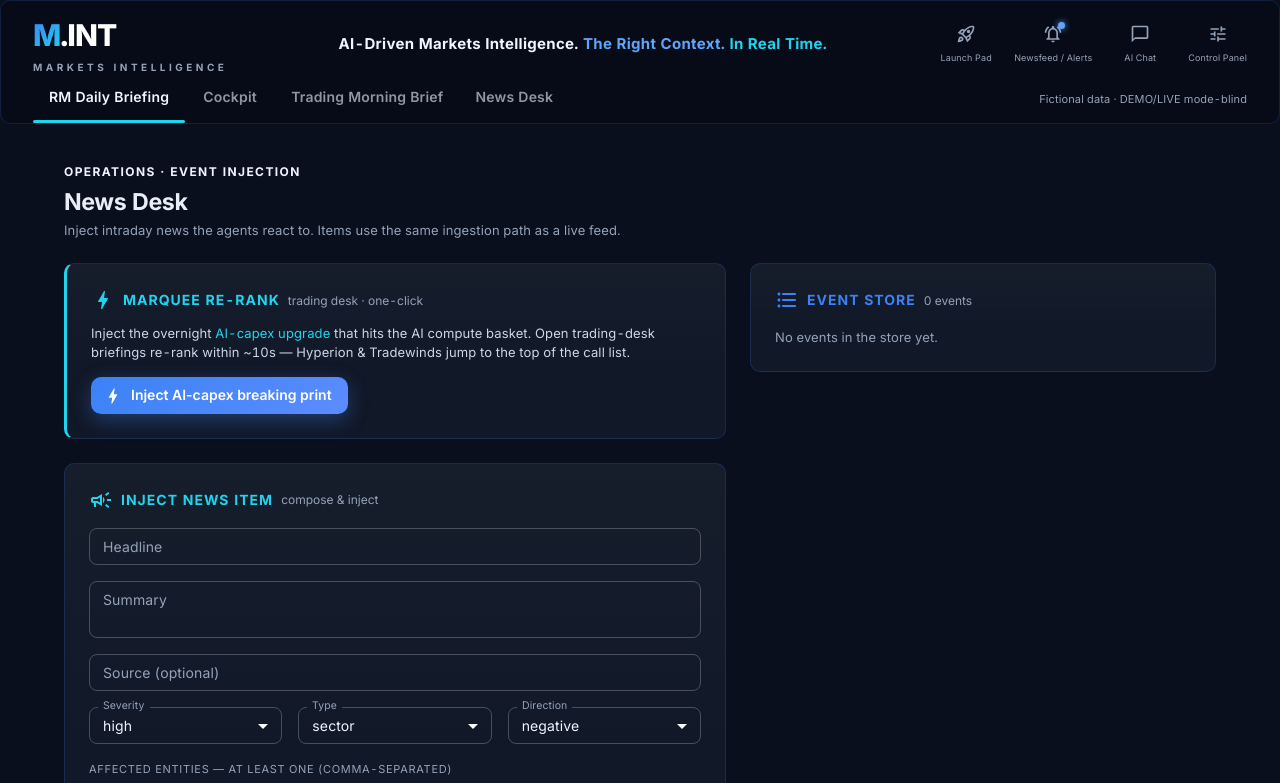
Test: AdminScene › ingests a valid submission exactly once and refreshes the feed
Type "Grain prices spike" into the field labelled "Headline" at (395, 546), box 89,528 -> 701,565
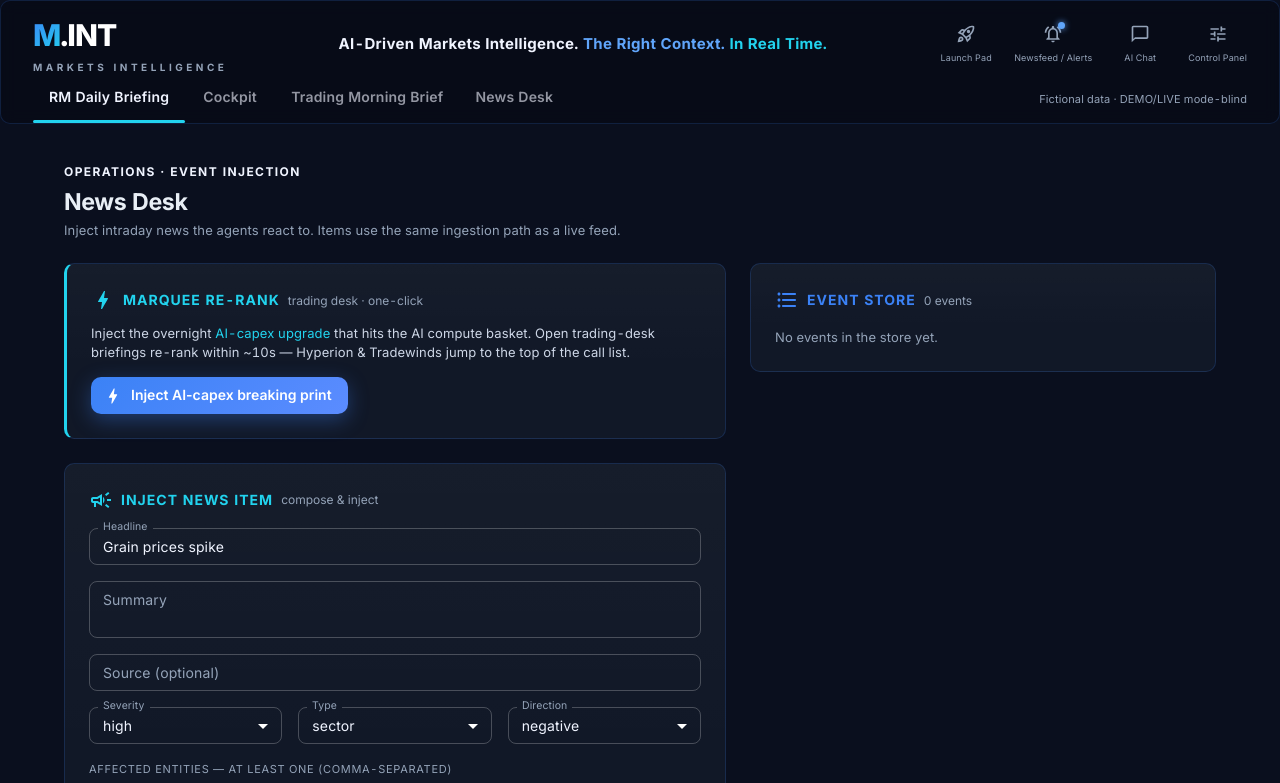
Type "Drought lifts agricultural commodity prices." into the text box labelled "Summary" at (395, 609), box 103,589 -> 687,629
(page scrolled)
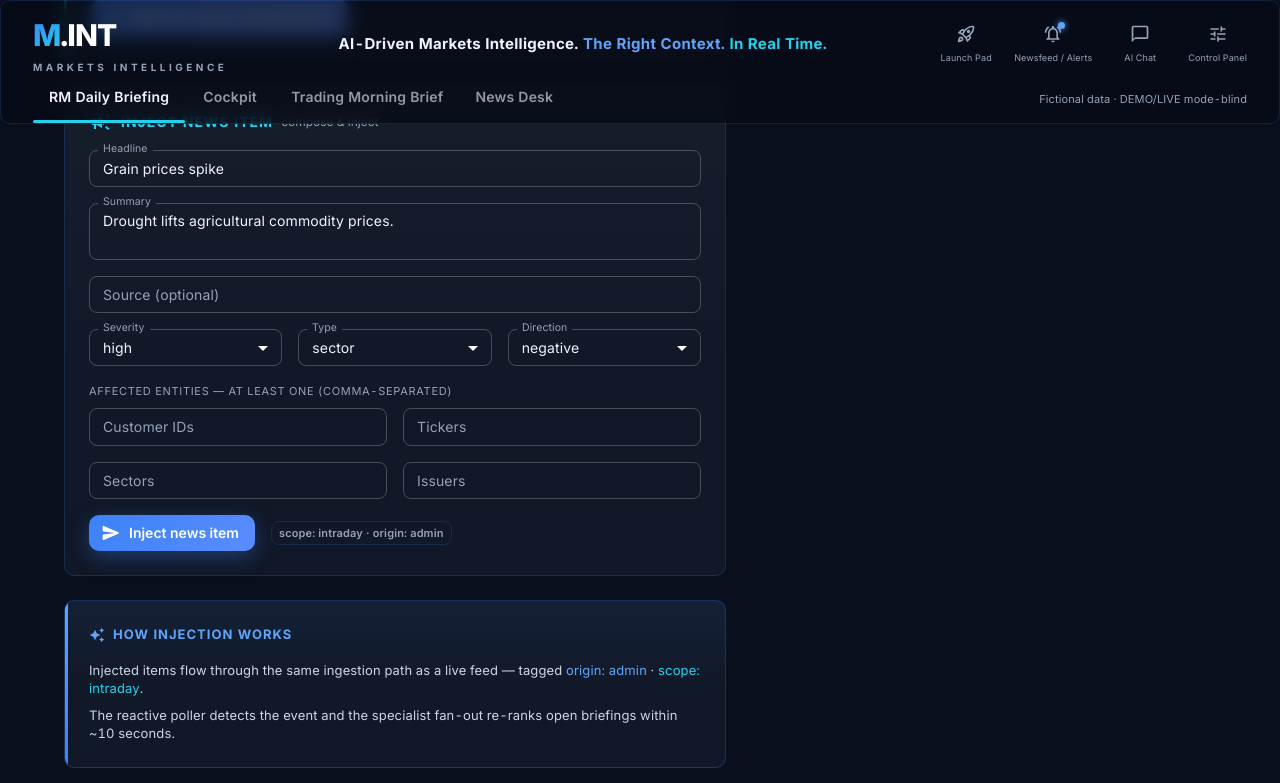
Type "CB-10036" into the dropdown labelled "Customer IDs" at (236, 427), box 95,414 -> 378,440
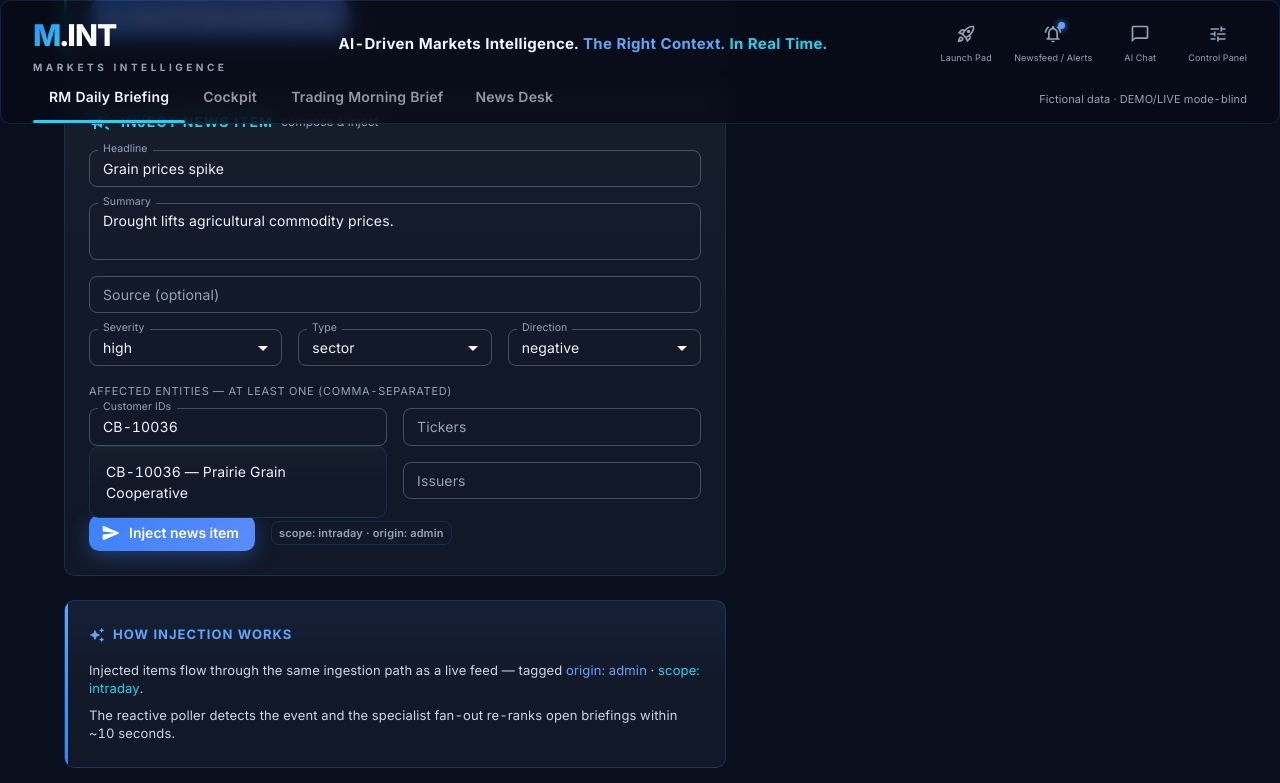
Press Enter in the dropdown labelled "Customer IDs", box 95,414 -> 348,440
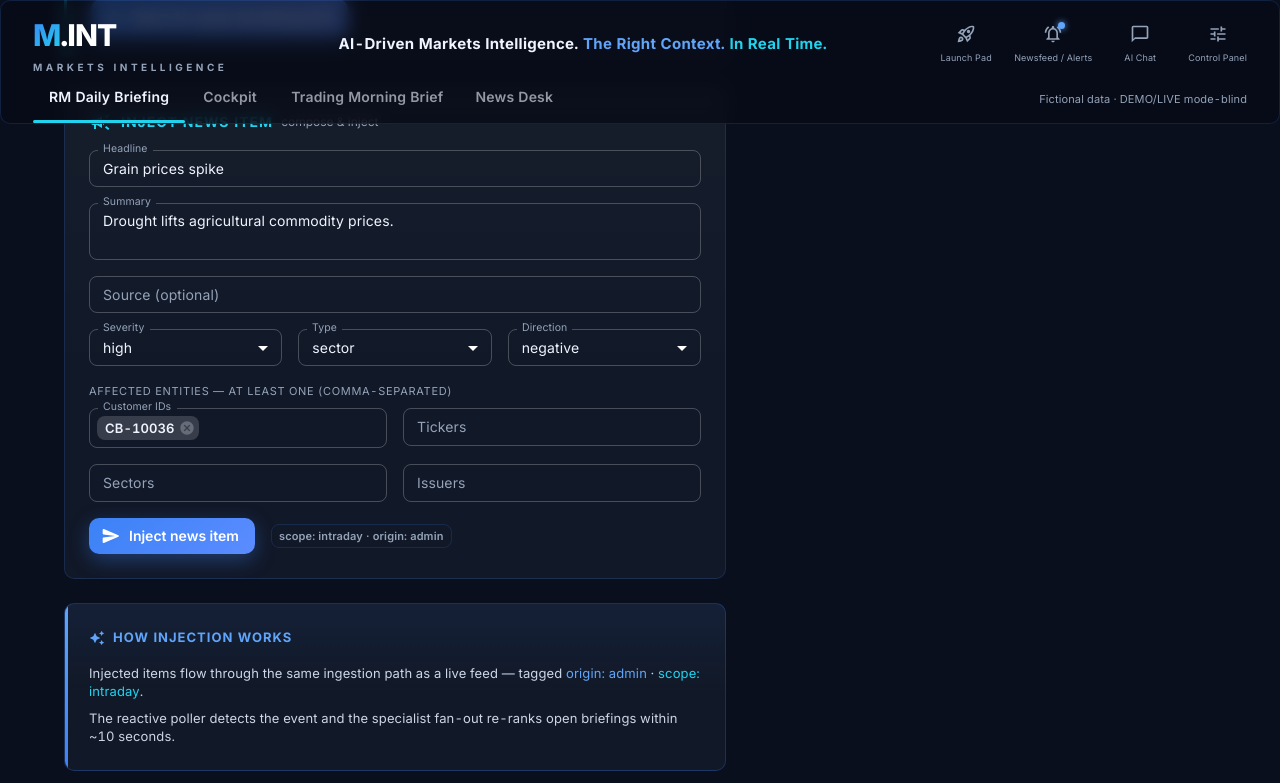
Click the button "Inject news item" at (172, 536), box 89,518 -> 255,554
(page scrolled)
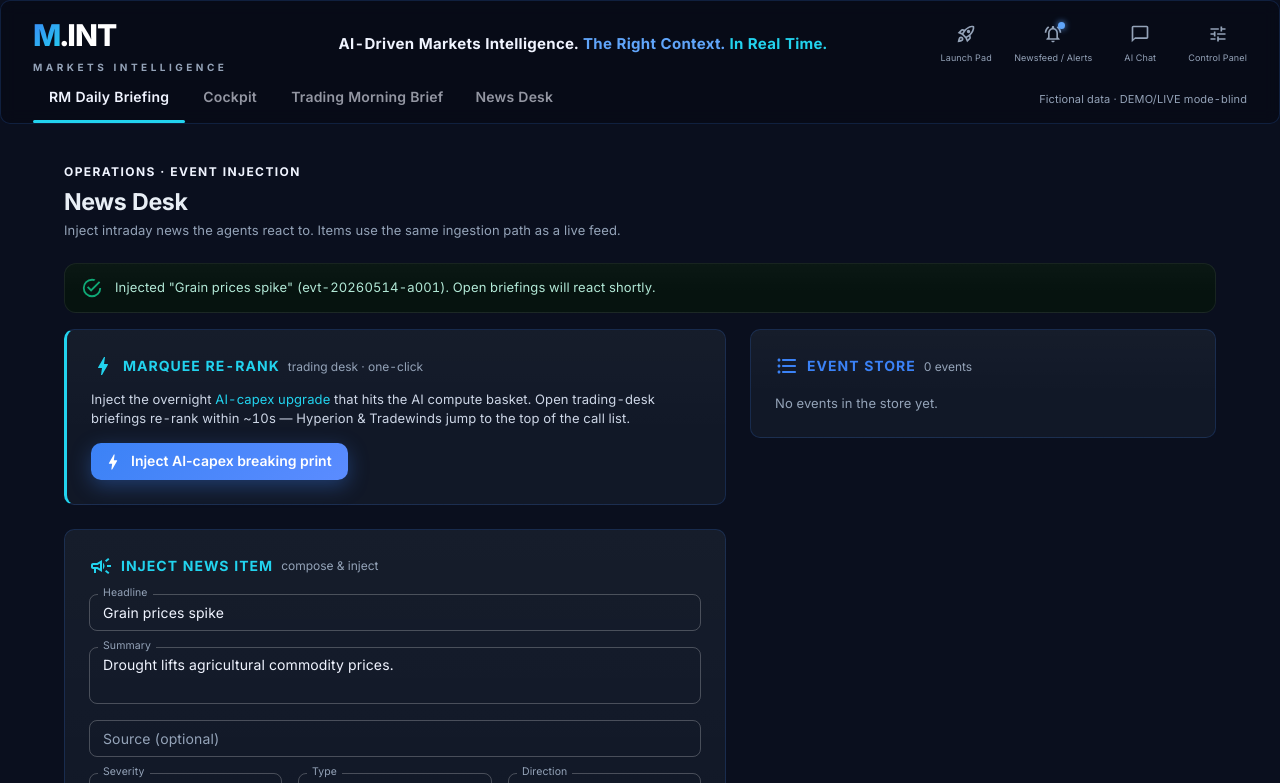
Expected: the message with test id "admin-notice" shows "evt-20260514-a001", 115,279 -> 656,295
